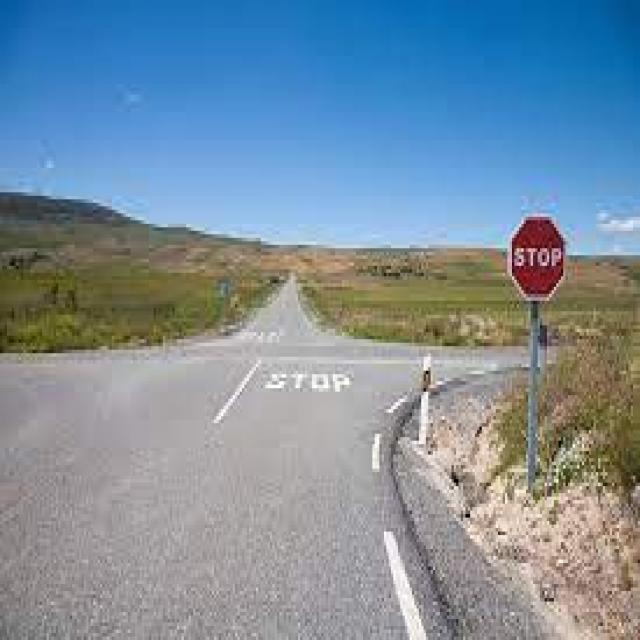stop-sign: (511, 211, 595, 310)
